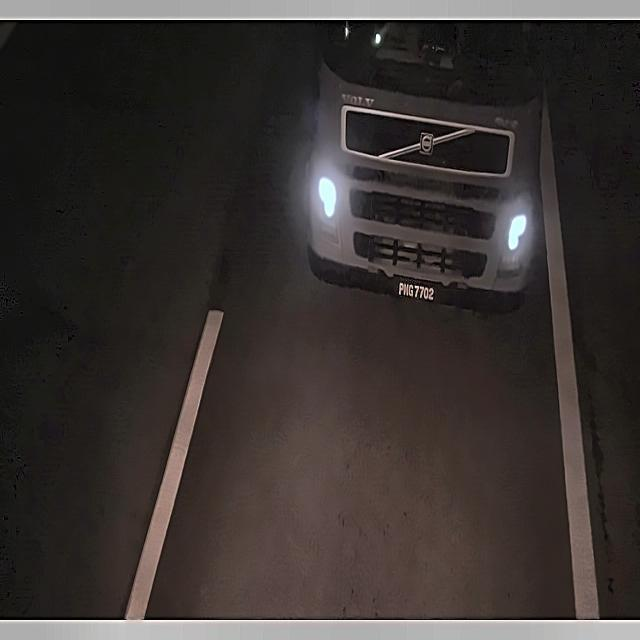car: (388, 268, 442, 308)
